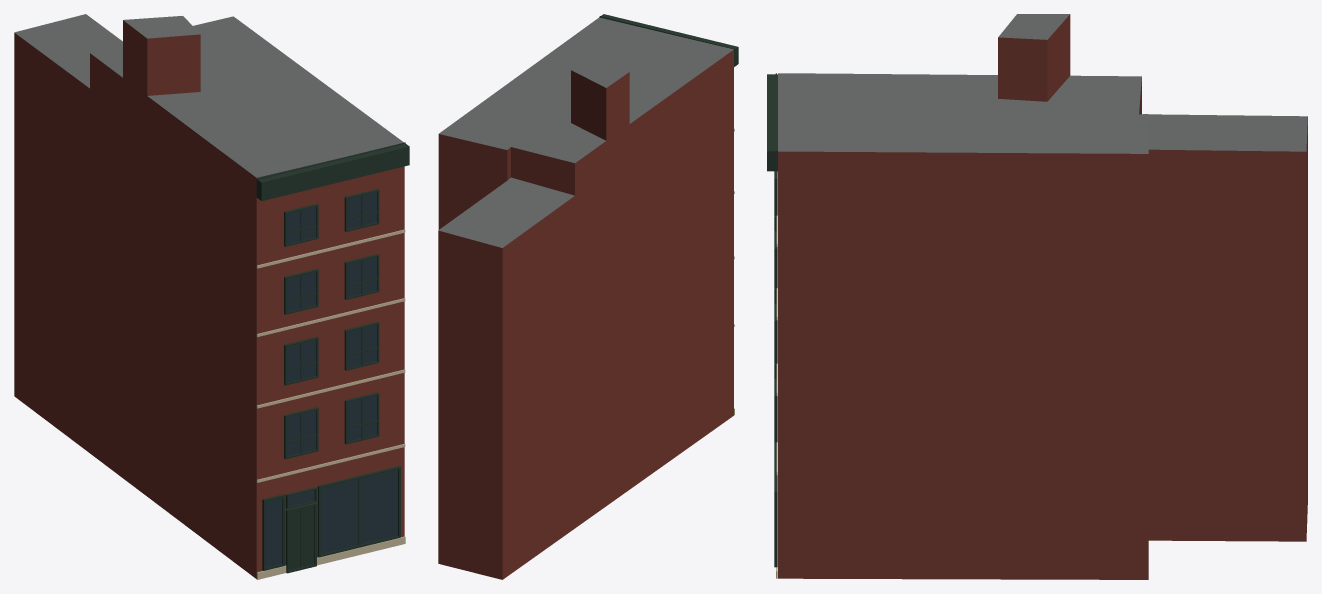
The model's file is recipe-bilder-157650.glb.
The picture shows the model from 3 angles, left to right: view 1: azimuth 30°, elevation 25°; view 2: azimuth 150°, elevation 25°; view 3: azimuth 270°, elevation 25°; orthographic projection. The views are drawn at different scales.
Parts seen in each view (by area): view 1: bilder-157650; view 2: bilder-157650; view 3: bilder-157650.
Part boxes in pixels (x1,y1,x2,y2): bilder-157650: (14, 14, 409, 579); bilder-157650: (438, 14, 738, 579); bilder-157650: (767, 14, 1307, 579).
Size of the model in its own units: 6.78 by 19.73 by 19.76.
